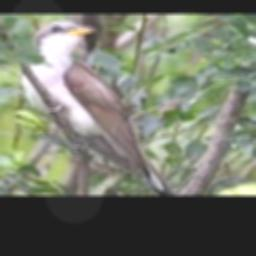Cuckoo: (23, 20, 170, 194)
